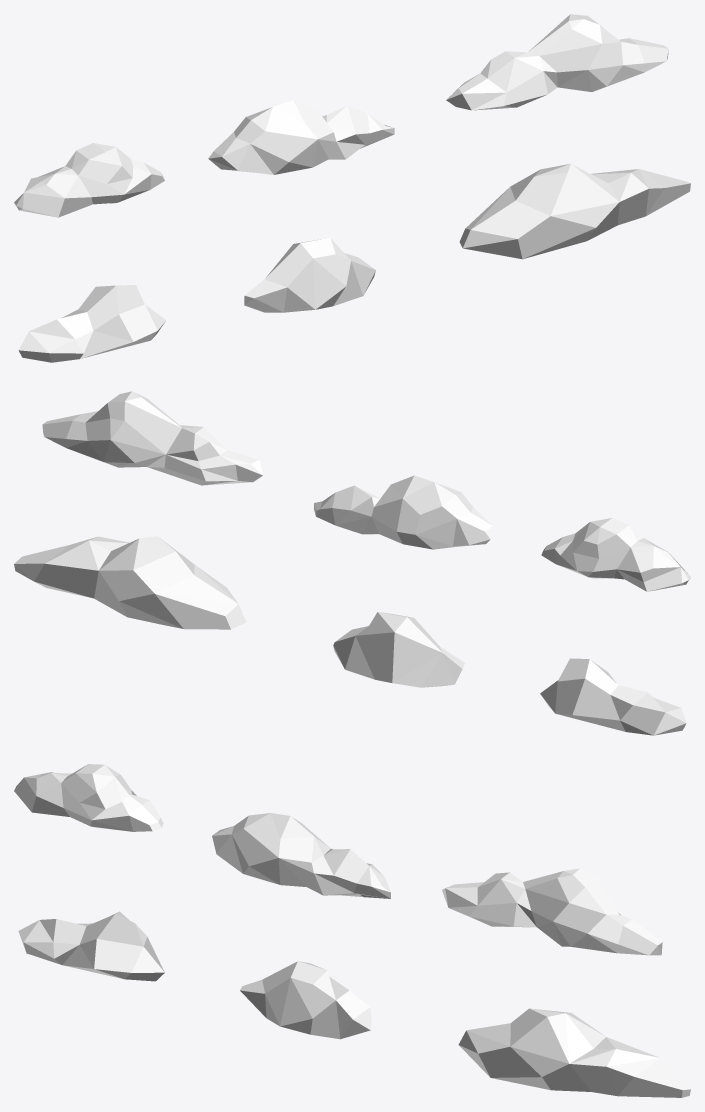
Rendered from clouds.fbx.
3 views of the same model, one above another, from view 1: azimuth 30°, elevation 25°; view 2: azimuth 150°, elevation 25°; view 3: azimuth 330°, elevation 25° (orthographic).
Parts seen in each view (by area): view 1: cloud_6, cloud_3, cloud_2, cloud_4, cloud_5, cloud_1; view 2: cloud_6, cloud_3, cloud_2, cloud_5, cloud_1, cloud_4; view 3: cloud_6, cloud_3, cloud_2, cloud_4, cloud_5, cloud_1.
Boxes of the visible parts, <box> form: cloud_6: <box>459,163,690,259</box>; cloud_3: <box>446,14,668,110</box>; cloud_2: <box>208,100,394,174</box>; cloud_4: <box>18,285,166,362</box>; cloud_5: <box>244,238,375,312</box>; cloud_1: <box>14,143,164,217</box>; cloud_6: <box>14,536,246,629</box>; cloud_3: <box>42,391,262,485</box>; cloud_2: <box>314,475,492,549</box>; cloud_5: <box>333,612,464,687</box>; cloud_1: <box>541,518,690,591</box>; cloud_4: <box>540,658,686,735</box>; cloud_6: <box>458,1008,690,1097</box>; cloud_3: <box>442,868,662,955</box>; cloud_2: <box>212,813,390,898</box>; cloud_4: <box>18,911,164,981</box>; cloud_5: <box>240,961,371,1039</box>; cloud_1: <box>14,764,163,831</box>.
Size of the model in its own units: 1666 by 526 by 201.
Materials: 1 (1 with a texture image).
